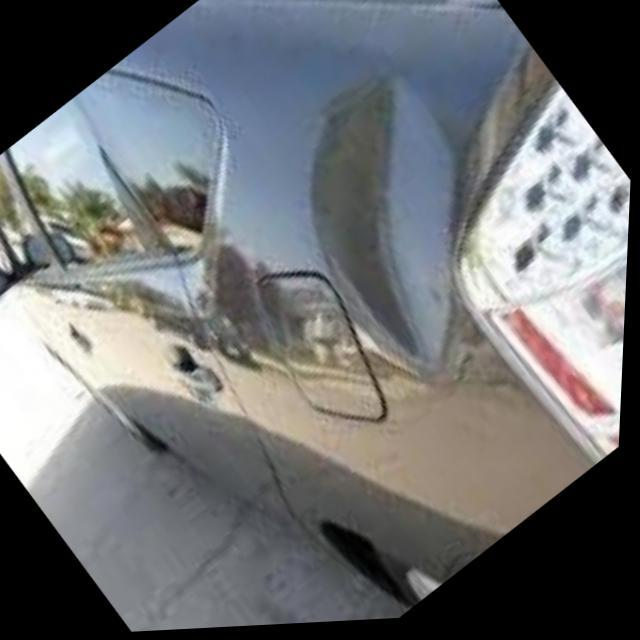dent: (313, 74, 482, 380)
